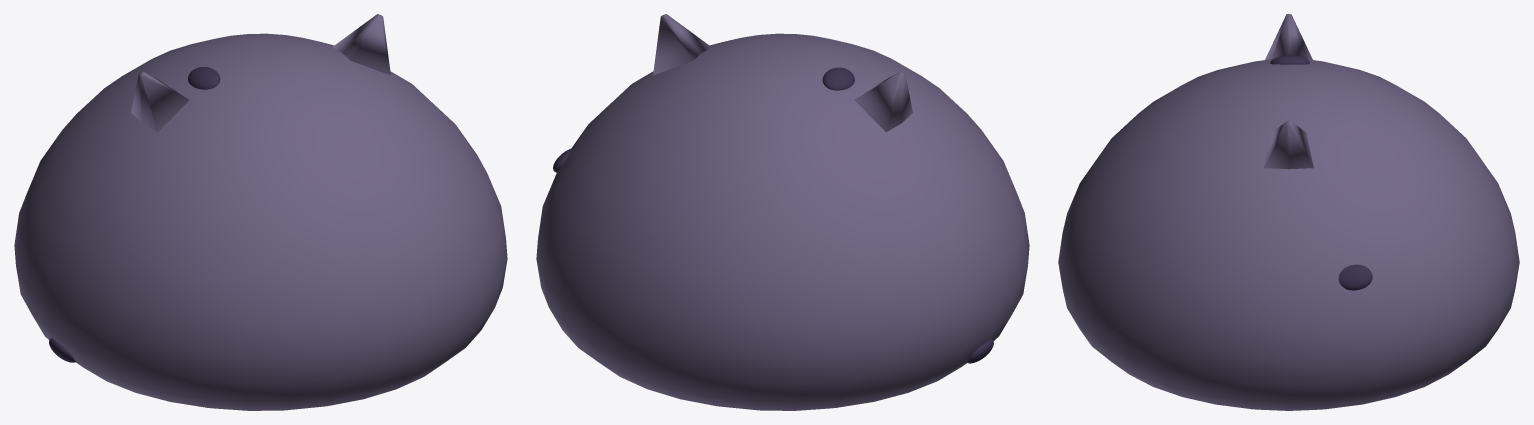
Rendered from voister_3.fbx.
3 renders of one model, left to right at view 1: azimuth 30°, elevation 25°; view 2: azimuth 150°, elevation 25°; view 3: azimuth 270°, elevation 25°, orthographic. The views are drawn at different scales.
Visible parts, largest first — view 1: Peau 1, bouton.002; view 2: Peau 1, bouton.002; view 3: Peau 1, bouton.
Part boxes in pixels (x1,y1,x2,y2): Peau 1: (14, 14, 507, 410); bouton.002: (188, 67, 220, 89); Peau 1: (536, 14, 1029, 410); bouton.002: (822, 67, 854, 90); Peau 1: (1058, 14, 1519, 410); bouton: (1338, 264, 1372, 290).
Bounding box in the file's own units: 348 × 238 × 348.
